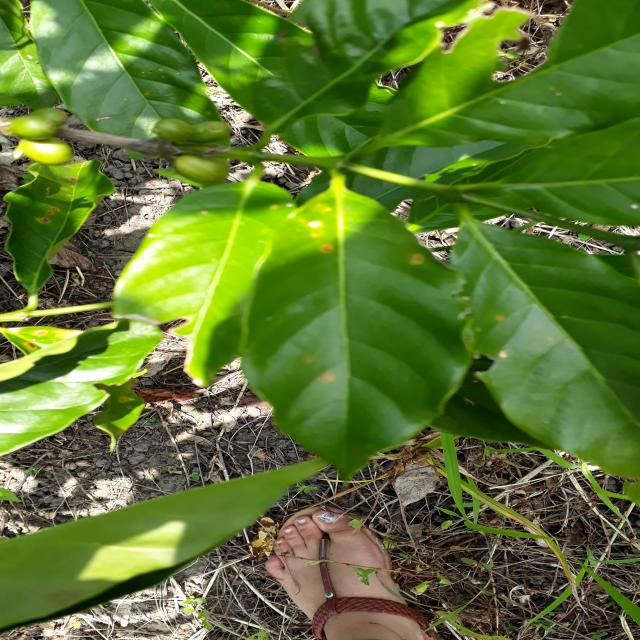Enfermedad-Roya: (245, 192, 517, 482)
